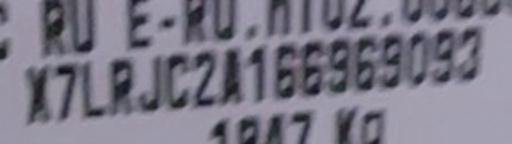letter: (22, 62, 54, 126), (104, 57, 138, 117), (49, 60, 81, 122), (76, 57, 106, 122), (321, 38, 353, 94), (215, 48, 243, 112), (160, 53, 192, 109), (188, 54, 220, 106), (242, 46, 270, 104), (270, 41, 298, 97), (297, 41, 325, 97), (457, 27, 483, 83), (380, 32, 404, 92), (140, 55, 164, 115), (352, 37, 380, 88), (432, 28, 456, 84), (405, 30, 429, 83)
